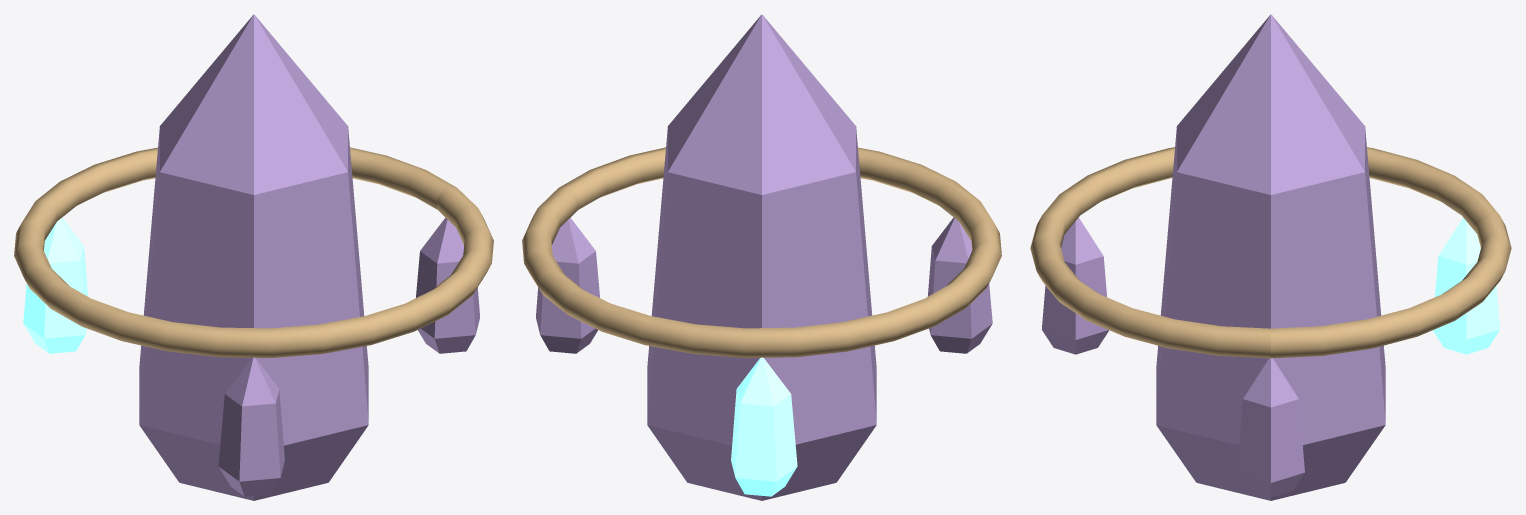
Rendered from pick_lavender_note.glb.
The picture shows the model from 3 angles, left to right: view 1: azimuth 30°, elevation 25°; view 2: azimuth 150°, elevation 25°; view 3: azimuth 270°, elevation 25°; orthographic projection.
Parts seen in each view (by area): view 1: PICK_lavender_note_primary, PICK_lavender_note_orbit, PICK_lavender_note_satellite_2, PICK_lavender_note_satellite_1, PICK_lavender_note_satellite_0; view 2: PICK_lavender_note_primary, PICK_lavender_note_orbit, PICK_lavender_note_satellite_1, PICK_lavender_note_satellite_2, PICK_lavender_note_satellite_0; view 3: PICK_lavender_note_primary, PICK_lavender_note_orbit, PICK_lavender_note_satellite_0, PICK_lavender_note_satellite_1, PICK_lavender_note_satellite_2.
Boxes of the visible parts, <box> form: PICK_lavender_note_primary: <box>139,14,368,500</box>; PICK_lavender_note_orbit: <box>14,147,493,357</box>; PICK_lavender_note_satellite_2: <box>218,357,284,496</box>; PICK_lavender_note_satellite_1: <box>23,217,88,353</box>; PICK_lavender_note_satellite_0: <box>416,218,479,353</box>; PICK_lavender_note_primary: <box>647,14,876,500</box>; PICK_lavender_note_orbit: <box>522,147,1001,357</box>; PICK_lavender_note_satellite_1: <box>731,357,797,496</box>; PICK_lavender_note_satellite_2: <box>927,217,992,353</box>; PICK_lavender_note_satellite_0: <box>536,218,599,353</box>; PICK_lavender_note_primary: <box>1156,14,1385,500</box>; PICK_lavender_note_orbit: <box>1030,147,1511,358</box>; PICK_lavender_note_satellite_0: <box>1237,358,1304,497</box>; PICK_lavender_note_satellite_1: <box>1433,217,1500,354</box>; PICK_lavender_note_satellite_2: <box>1041,217,1108,354</box>.
Size of the model in its own units: 0.757 by 0.75 by 0.726.
